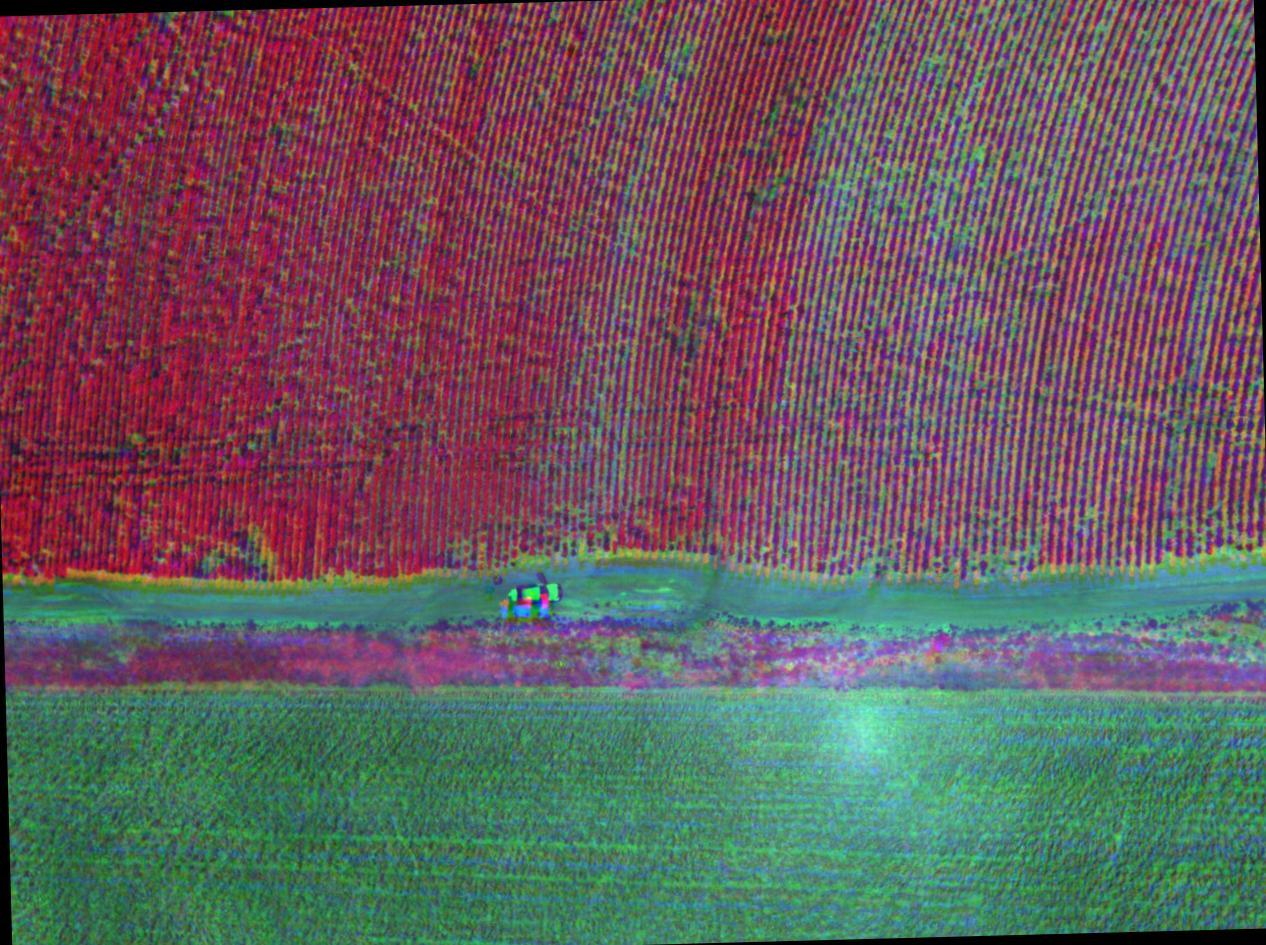dc: (828, 478, 1043, 589), (1076, 33, 1209, 175), (868, 0, 1021, 105), (826, 130, 906, 225), (933, 108, 1017, 196)
